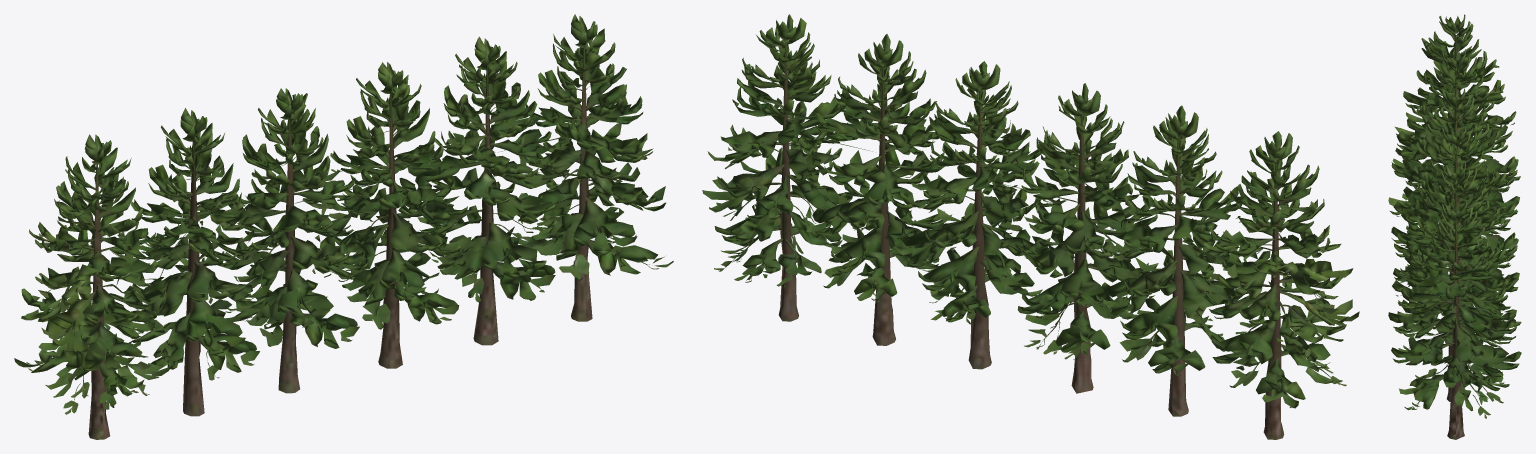
The model's file is pine_split.glb.
The picture shows the model from 3 angles, left to right: view 1: azimuth 30°, elevation 25°; view 2: azimuth 150°, elevation 25°; view 3: azimuth 270°, elevation 25°; orthographic projection. The views are drawn at different scales.
Visible parts, largest first — view 1: tree_0, tree_2, tree_5, tree_4, tree_3, tree_1; view 2: tree_0, tree_5, tree_3, tree_2, tree_1, tree_4; view 3: tree_5, tree_4, tree_1, tree_3, tree_0, tree_2.
Part boxes in pixels (left/top/right/bottom): tree_0: left=14, top=134, right=171, bottom=439; tree_2: left=216, top=88, right=368, bottom=393; tree_5: left=495, top=14, right=673, bottom=321; tree_4: left=408, top=36, right=556, bottom=345; tree_3: left=309, top=62, right=467, bottom=368; tree_1: left=111, top=108, right=265, bottom=416; tree_0: left=1203, top=131, right=1359, bottom=439; tree_5: left=702, top=14, right=872, bottom=321; tree_3: left=899, top=61, right=1050, bottom=369; tree_2: left=1001, top=83, right=1158, bottom=393; tree_1: left=1098, top=105, right=1241, bottom=416; tree_4: left=806, top=34, right=952, bottom=345; tree_5: left=1391, top=200, right=1521, bottom=439; tree_4: left=1388, top=162, right=1521, bottom=401; tree_1: left=1388, top=49, right=1519, bottom=273; tree_3: left=1393, top=127, right=1519, bottom=364; tree_0: left=1391, top=14, right=1520, bottom=200; tree_2: left=1391, top=88, right=1518, bottom=286.
Size of the model in its own units: 0.9995 by 0.4673 by 0.2378.
1 material, 1 textured.
